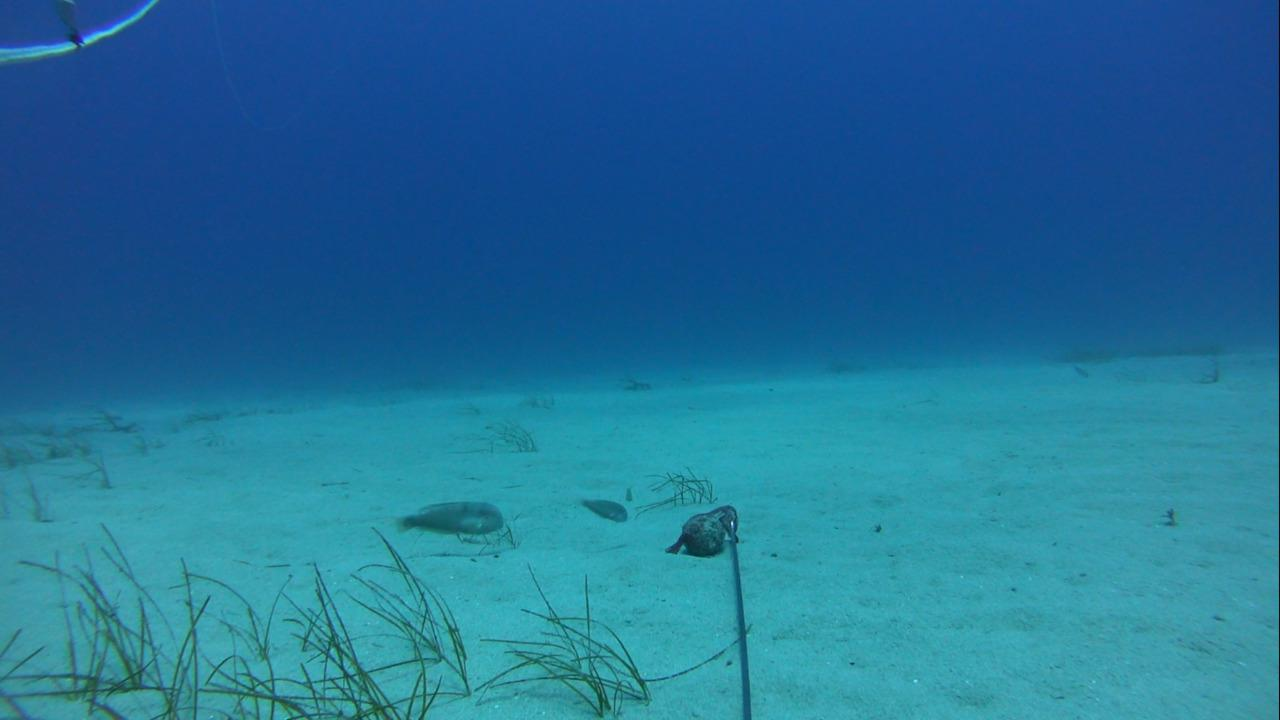raor: (394, 498, 506, 540), (572, 492, 628, 523)
